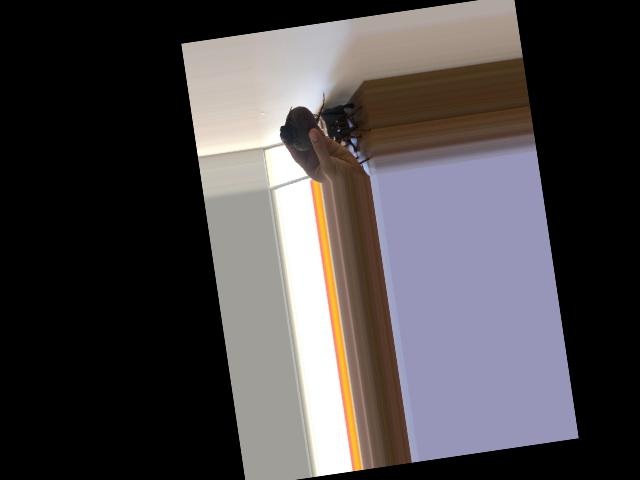beet: (274, 90, 332, 153)
